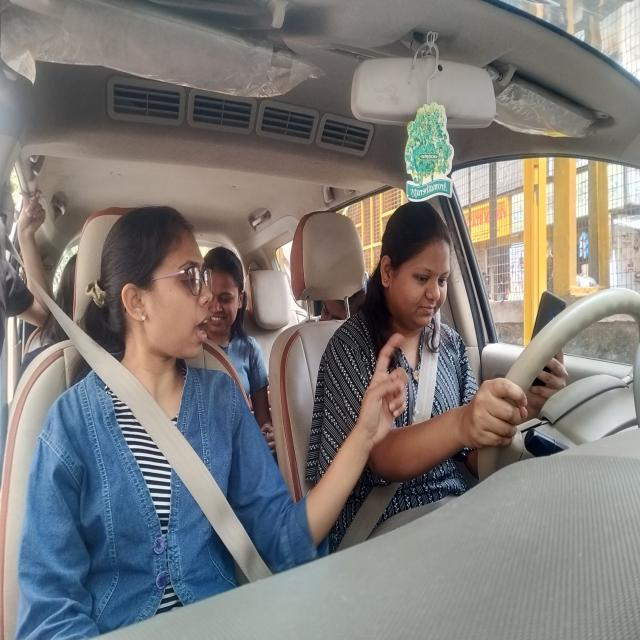mobile: (512, 283, 570, 372)
person: (101, 204, 218, 384), (379, 202, 464, 355), (201, 233, 251, 348)
